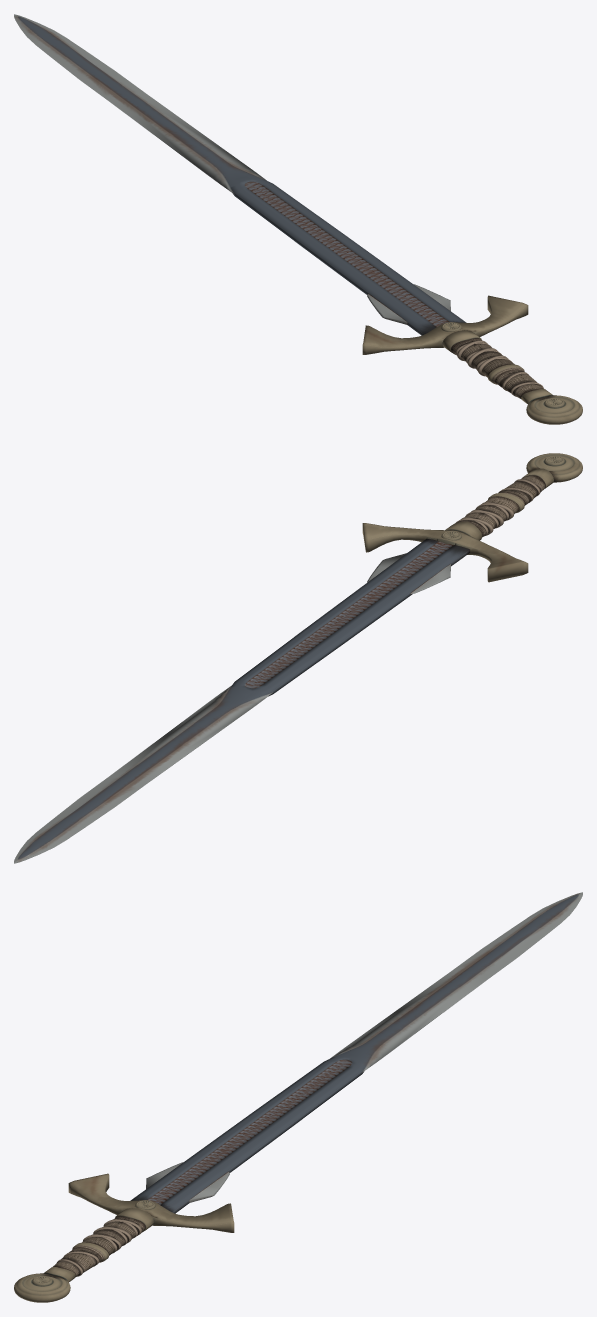
Rendered from sword_c5449158.glb.
3 renders of one model, top to bottom at view 1: azimuth 30°, elevation 25°; view 2: azimuth 150°, elevation 25°; view 3: azimuth 330°, elevation 25°, orthographic.
Parts seen in each view (by area): view 1: LP_Deathbringer; view 2: LP_Deathbringer; view 3: LP_Deathbringer.
Part boxes in pixels (<box>): LP_Deathbringer: <box>14,14,582,424</box>; LP_Deathbringer: <box>14,453,582,863</box>; LP_Deathbringer: <box>14,892,582,1302</box>.
Bounding box in the file's own units: 18.49 × 1.94 × 107.
1 material, 1 textured.
